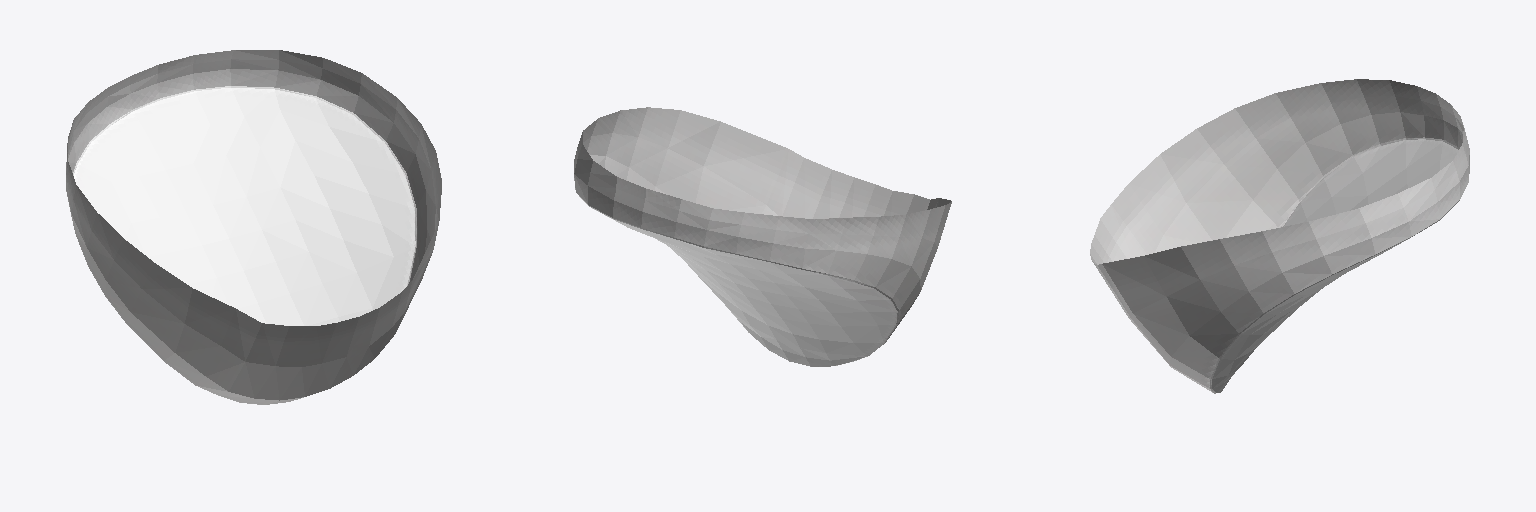
The picture shows the model from 3 angles: view 1: azimuth 30°, elevation 25°; view 2: azimuth 150°, elevation 25°; view 3: azimuth 270°, elevation 25°; orthographic projection.
Parts seen in each view (by area): view 1: right_trigger; view 2: right_trigger; view 3: right_trigger.
Part boxes in pixels (left/top/right/bottom): right_trigger: left=66, top=50, right=441, bottom=404; right_trigger: left=574, top=107, right=951, bottom=366; right_trigger: left=1090, top=79, right=1469, bottom=393.
Size of the model in its own units: 0.0286 by 0.0216 by 0.0293.
1 materials, 1 textured.